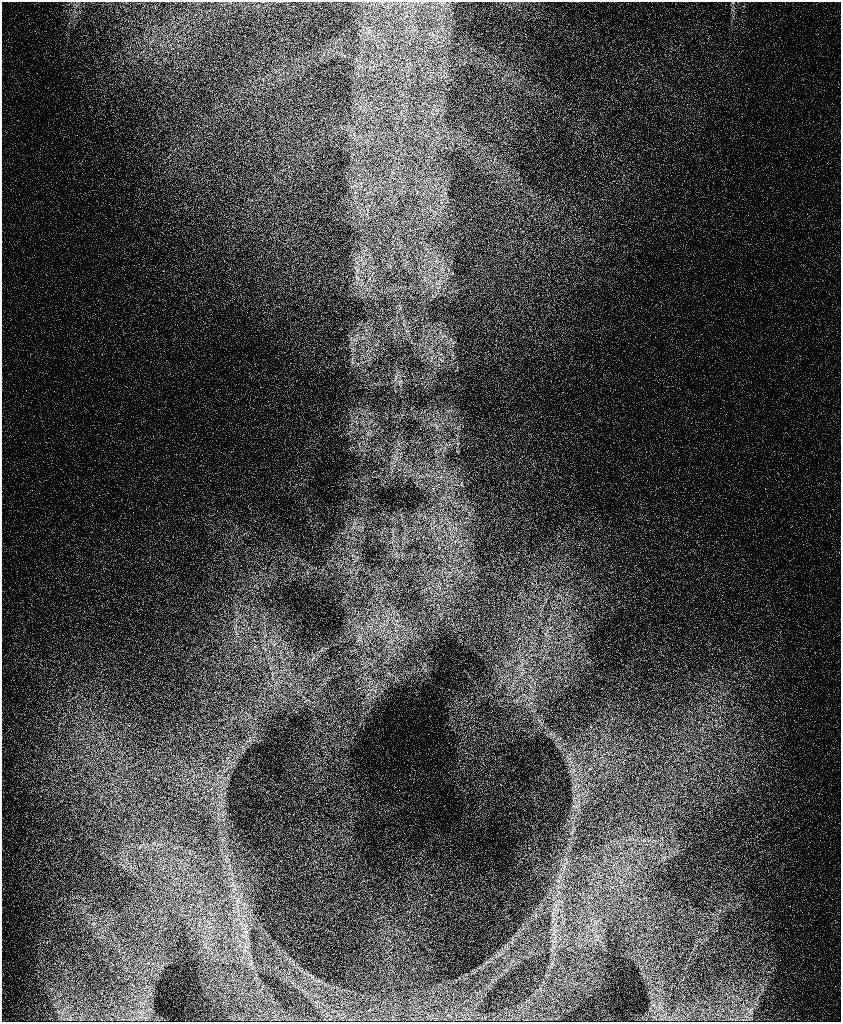lumbar scoliosis: (301, 95, 481, 642)
